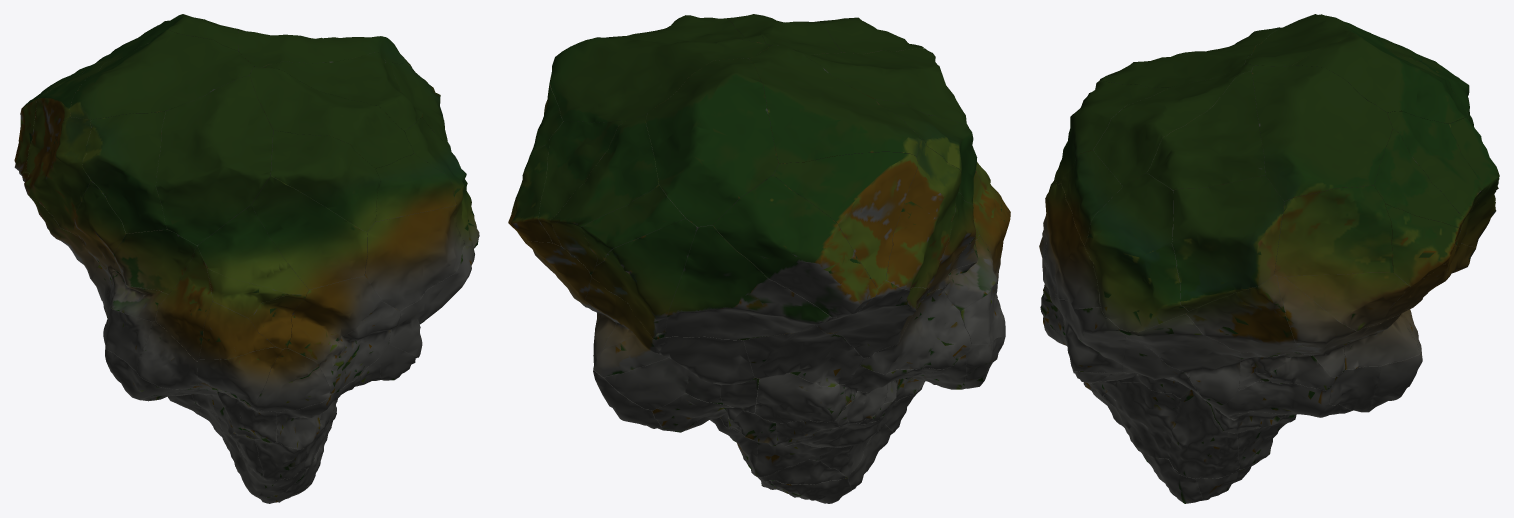
Rendered from generic_island_2.fbx.
The picture shows the model from 3 angles, left to right: view 1: azimuth 30°, elevation 25°; view 2: azimuth 150°, elevation 25°; view 3: azimuth 270°, elevation 25°; orthographic projection. The views are drawn at different scales.
Visible parts, largest first — view 1: rock_cell.049, rock_cell.023, rock_cell.016, rock_cell.010, rock_cell.059, rock_cell.077, rock_cell.035, rock_cell.058, rock_cell.063, rock_cell.026, rock_cell.042, rock_cell.098 (+31 smaller); view 2: rock_cell.034, rock_cell.041, rock_cell.023, rock_cell.098, rock_cell.076, rock_cell.006, rock_cell.074, rock_cell.042, rock_cell.017, rock_cell.049, rock_cell.048, rock_cell.090 (+38 smaller); view 3: rock_cell.098, rock_cell.039, rock_cell.062, rock_cell.099, rock_cell.063, rock_cell.034, rock_cell.016, rock_cell.045, rock_cell.051, rock_cell.074, rock_cell.019, rock_cell.053 (+29 smaller).
Boxes of the visible parts, x1,y1,x2,y2 form: rock_cell.049: (156, 75, 272, 245); rock_cell.023: (70, 30, 253, 119); rock_cell.016: (249, 67, 413, 168); rock_cell.010: (251, 174, 367, 289); rock_cell.059: (82, 111, 167, 233); rock_cell.077: (364, 205, 464, 311); rock_cell.035: (271, 130, 380, 231); rock_cell.058: (197, 205, 308, 294); rock_cell.063: (262, 52, 422, 130); rock_cell.026: (287, 276, 381, 362); rock_cell.042: (24, 117, 91, 235); rock_cell.098: (238, 29, 404, 67); rock_cell.034: (646, 58, 778, 227); rock_cell.041: (713, 175, 877, 317); rock_cell.023: (749, 45, 921, 163); rock_cell.098: (549, 36, 772, 122); rock_cell.076: (664, 225, 836, 340); rock_cell.006: (773, 152, 917, 288); rock_cell.074: (550, 114, 658, 274); rock_cell.042: (886, 139, 961, 290); rock_cell.017: (591, 218, 697, 339); rock_cell.049: (793, 48, 967, 126); rock_cell.048: (743, 325, 863, 387); rock_cell.090: (860, 288, 971, 374); rock_cell.098: (1251, 65, 1392, 201); rock_cell.039: (1172, 175, 1284, 311); rock_cell.062: (1084, 173, 1188, 331); rock_cell.099: (1274, 185, 1393, 276); rock_cell.063: (1147, 71, 1265, 190); rock_cell.034: (1292, 33, 1469, 123); rock_cell.016: (1093, 64, 1253, 186); rock_cell.045: (1186, 274, 1302, 356); rock_cell.051: (1119, 313, 1240, 406); rock_cell.074: (1387, 111, 1483, 245); rock_cell.019: (1284, 272, 1409, 331); rock_cell.053: (1169, 389, 1239, 478).
Size of the model in its own units: 372 by 413 by 381.
